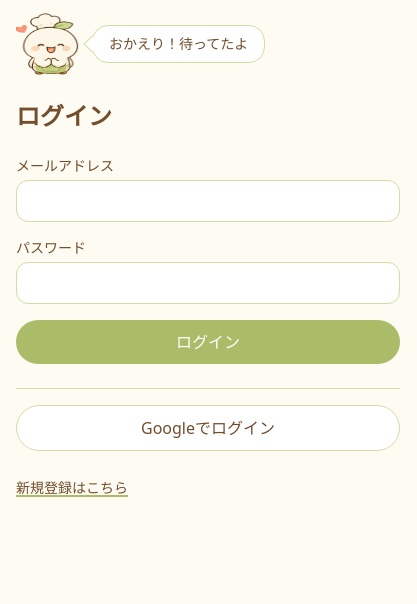
it: ログイン画面 › 401 はエラーを表示し、画面に留まる
The width and height of the screenshot is (417, 604).
Type "user@example.com" into the field labelled "メールアドレス" at (208, 201), box [16,180,400,222]
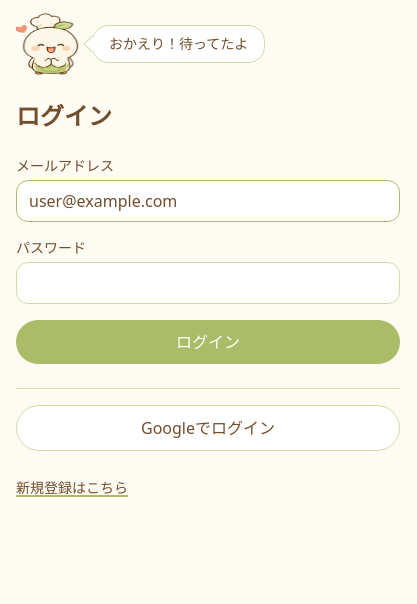
Type "wrongpassword" into the password field labelled "パスワード" at (208, 283), box [16,262,400,304]
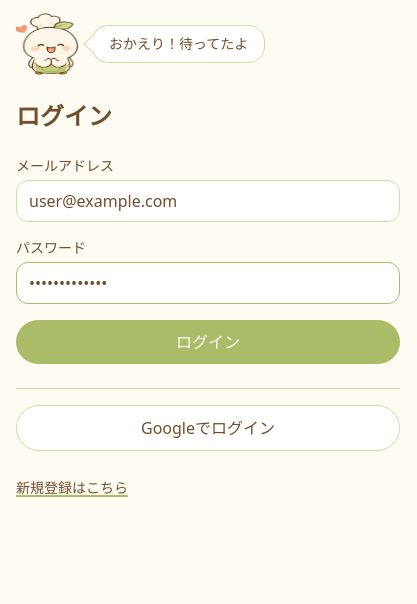
Click the button "ログイン" at (208, 342), box [16,320,400,364]
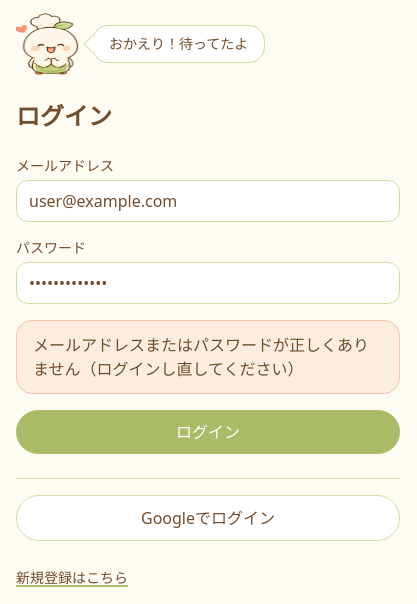
Now the message shows "メールアドレスまたはパスワードが正しくありません", box [33,334,369,380]
